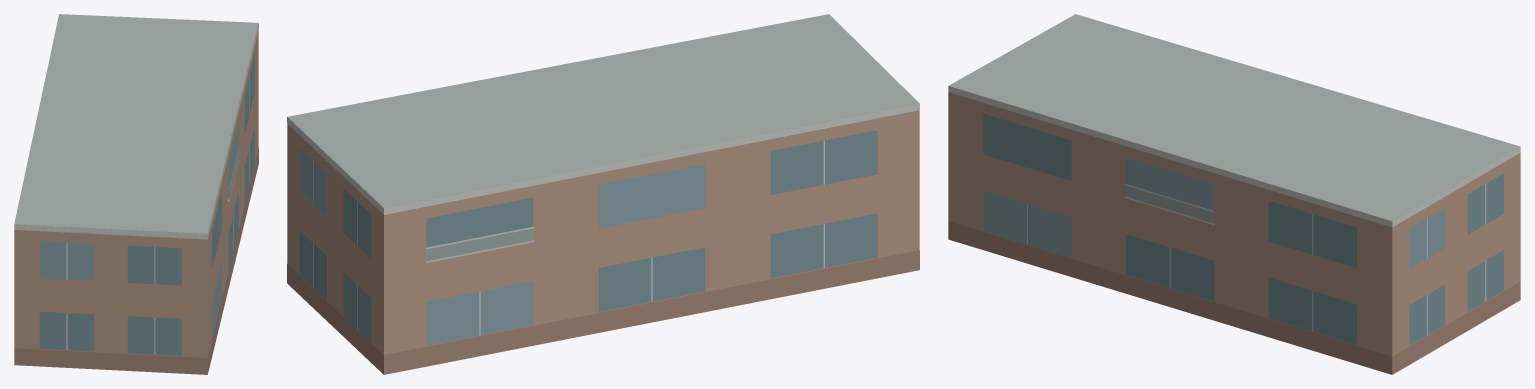
File: survey-upis-32964059.glb
3 views of the same model, side by side, from view 1: azimuth 30°, elevation 25°; view 2: azimuth 150°, elevation 25°; view 3: azimuth 270°, elevation 25° (orthographic). The views are drawn at different scales.
Parts seen in each view (by area): view 1: survey-upis-32964059.tmp; view 2: survey-upis-32964059.tmp; view 3: survey-upis-32964059.tmp.
Part boxes in pixels (box(x1,y1,x2,y2)): survey-upis-32964059.tmp: box(14, 14, 258, 374); survey-upis-32964059.tmp: box(287, 14, 919, 374); survey-upis-32964059.tmp: box(948, 14, 1520, 374).
Bounding box in the file's own units: 17.67 × 6.1 × 20.61.
